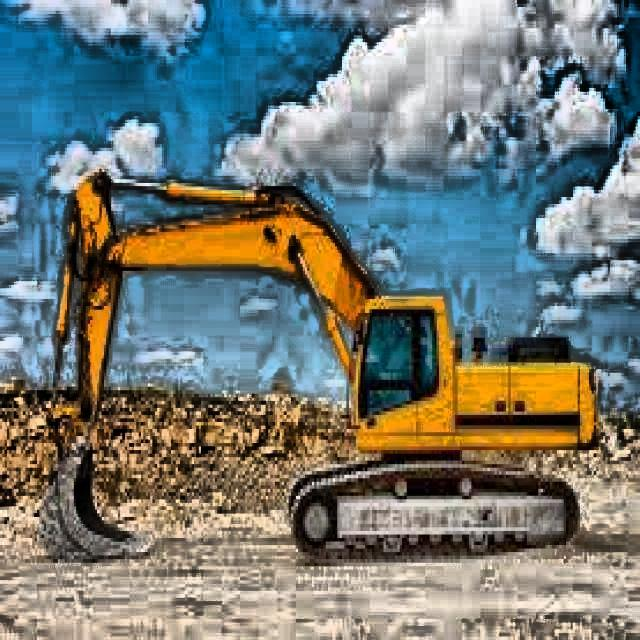bull_dozer/loader/grader: (36, 161, 604, 574)
person: (380, 324, 407, 380)
